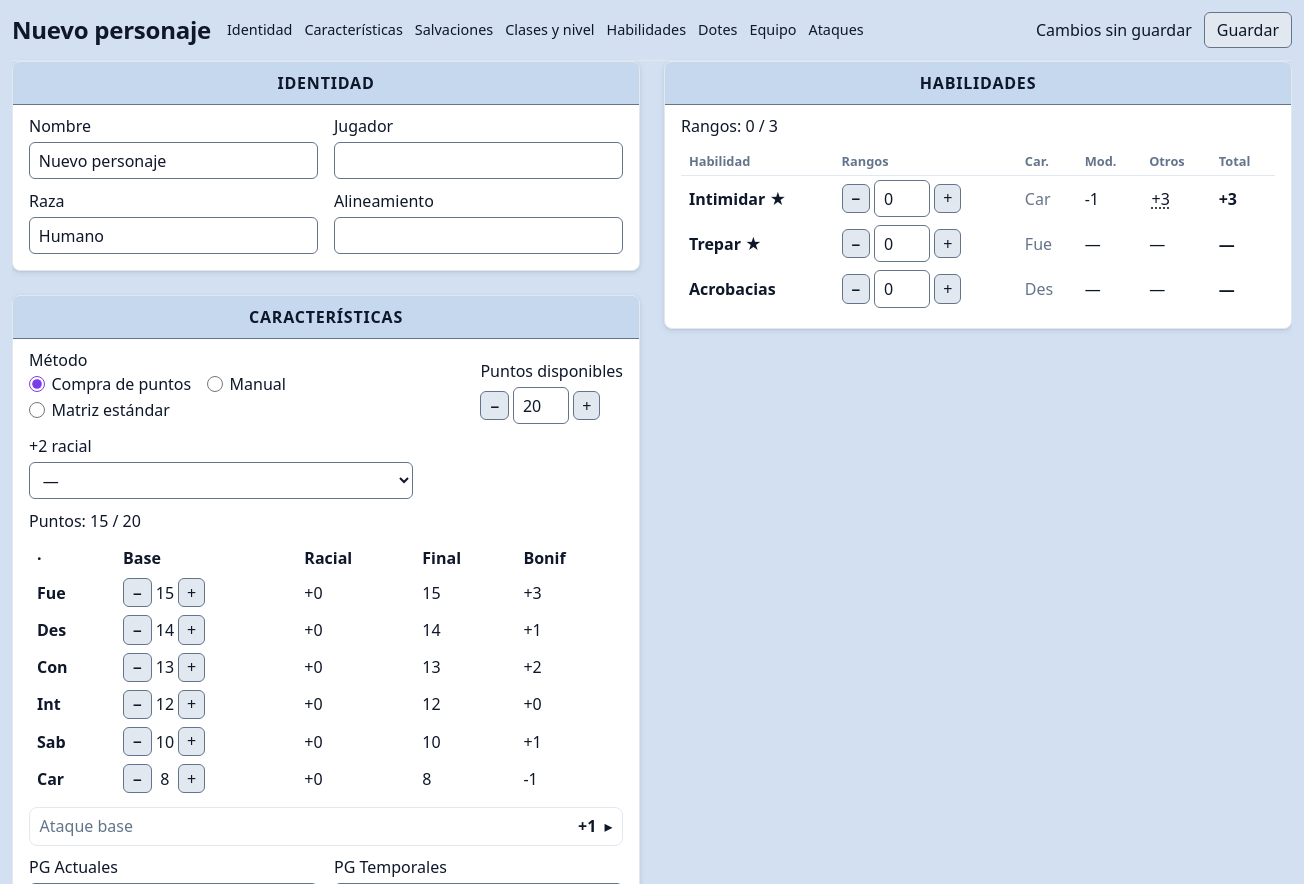
Test: CharacterEditor › saves and reports the save state
Click the button "Guardar": point(1248, 30) x1=1204 y1=12 x2=1292 y2=48
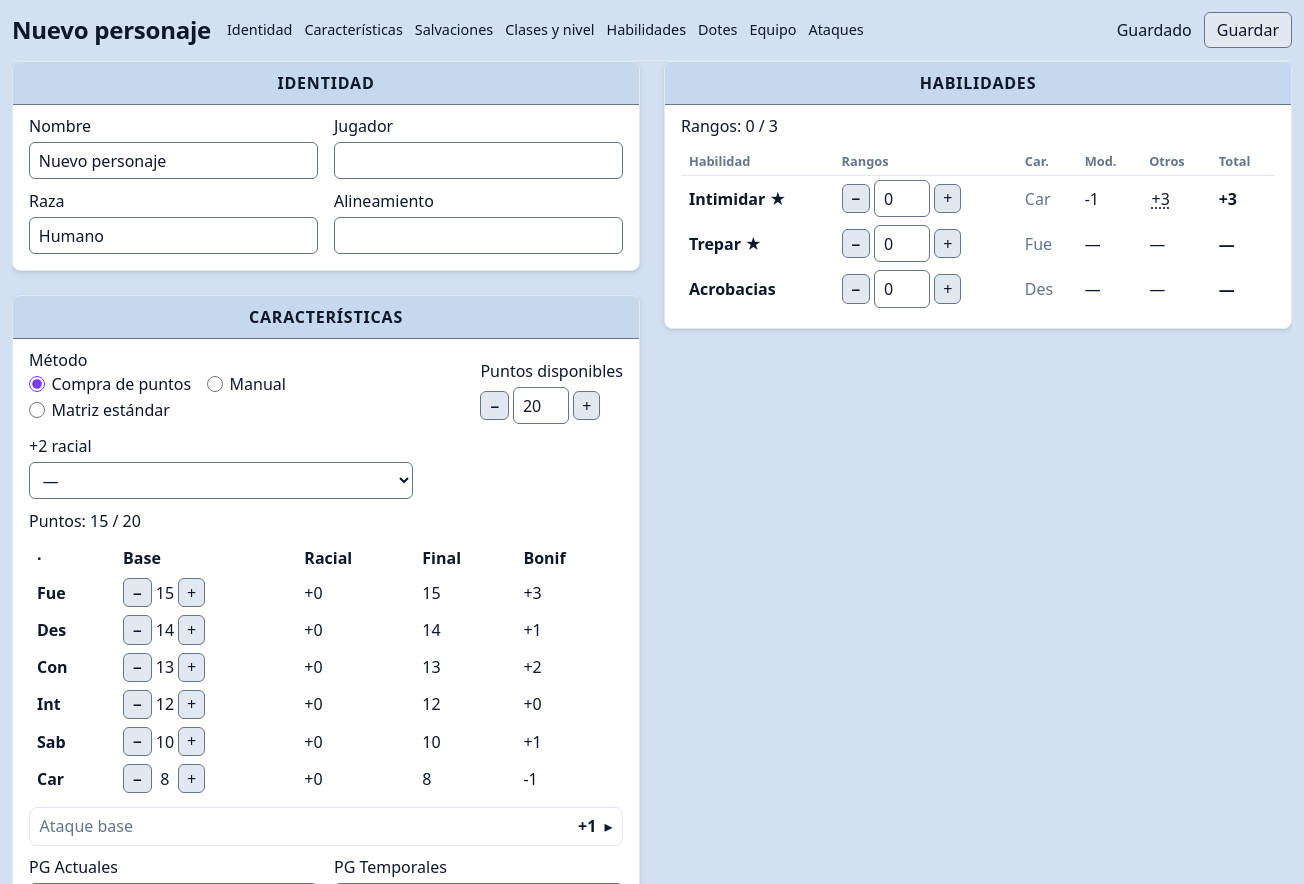
Result: the text "Guardado" is shown at x1=1117 y1=18 x2=1192 y2=42
